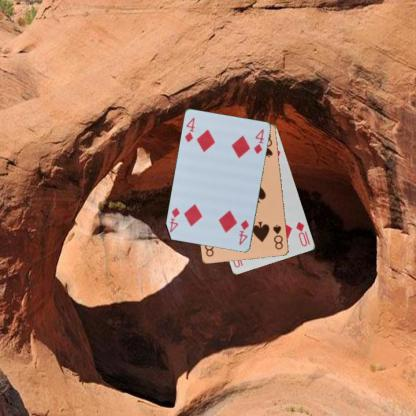10d: (294, 219, 312, 248)
4d: (236, 217, 250, 246), (182, 115, 196, 144)
8s: (270, 222, 284, 251)
